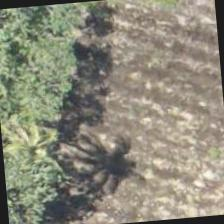Kelapa_Sawit: (0, 91, 77, 188)
